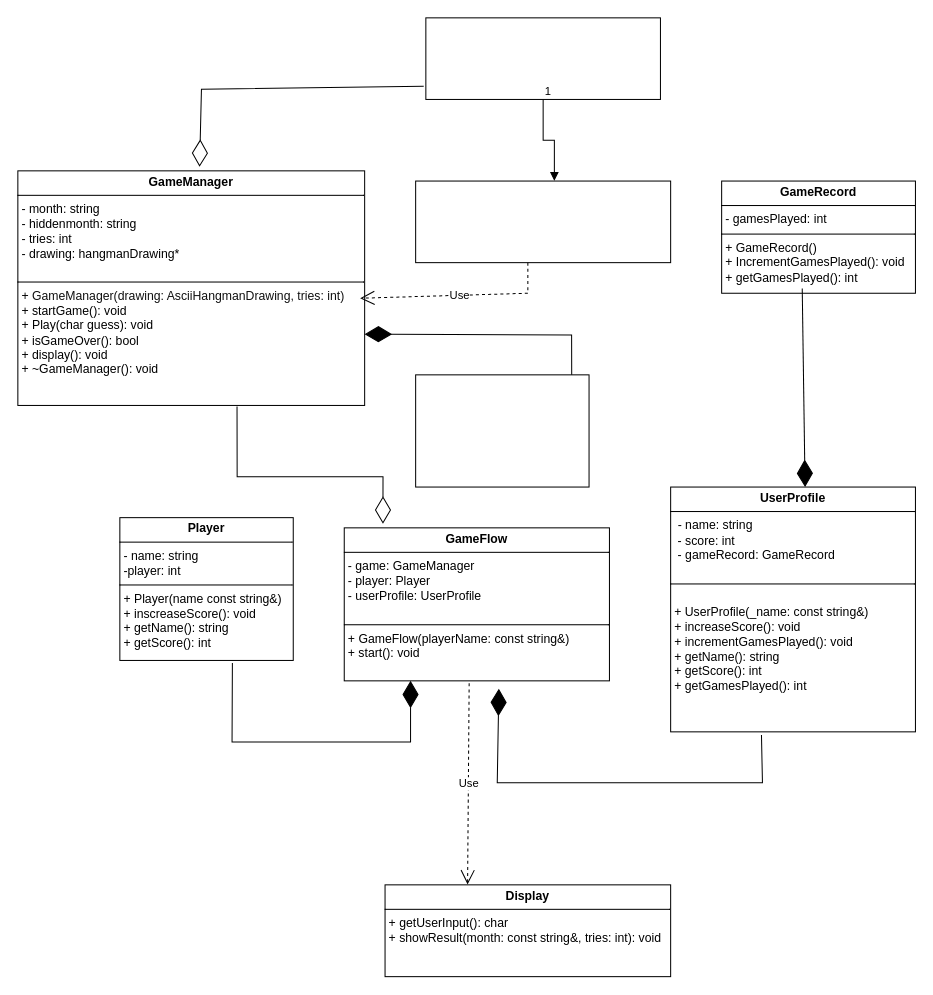
The diagram is 933 pixels wide and 995 high, and some of its shapes have lost their labels. Here are the shapes that lost their labels. From the top down, the box of each, then its label:
(425, 17, 660, 99): HangmanDrawing + draw(int incorrectGuesses): virtual void
(415, 180, 671, 263): ASCIIHangmanDrawing + draw(int incorrectGuesses): void override
(415, 374, 589, 487): WordBank - static const string months + getRandomWord(): string
